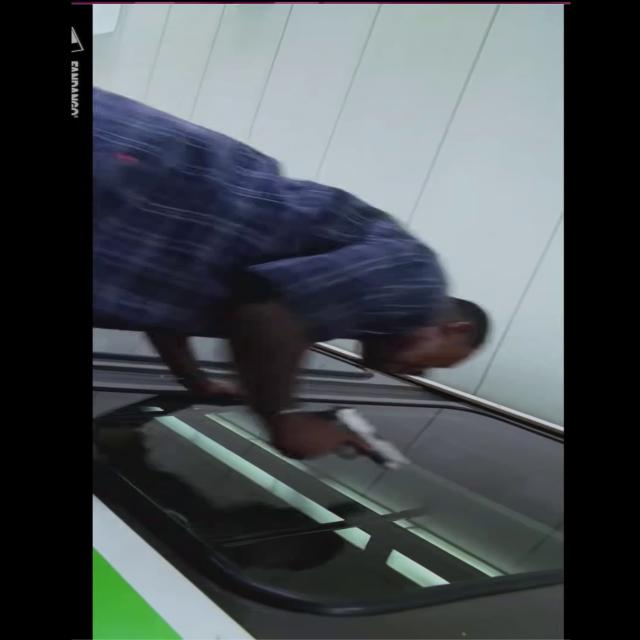weapons: (277, 405, 423, 475)
